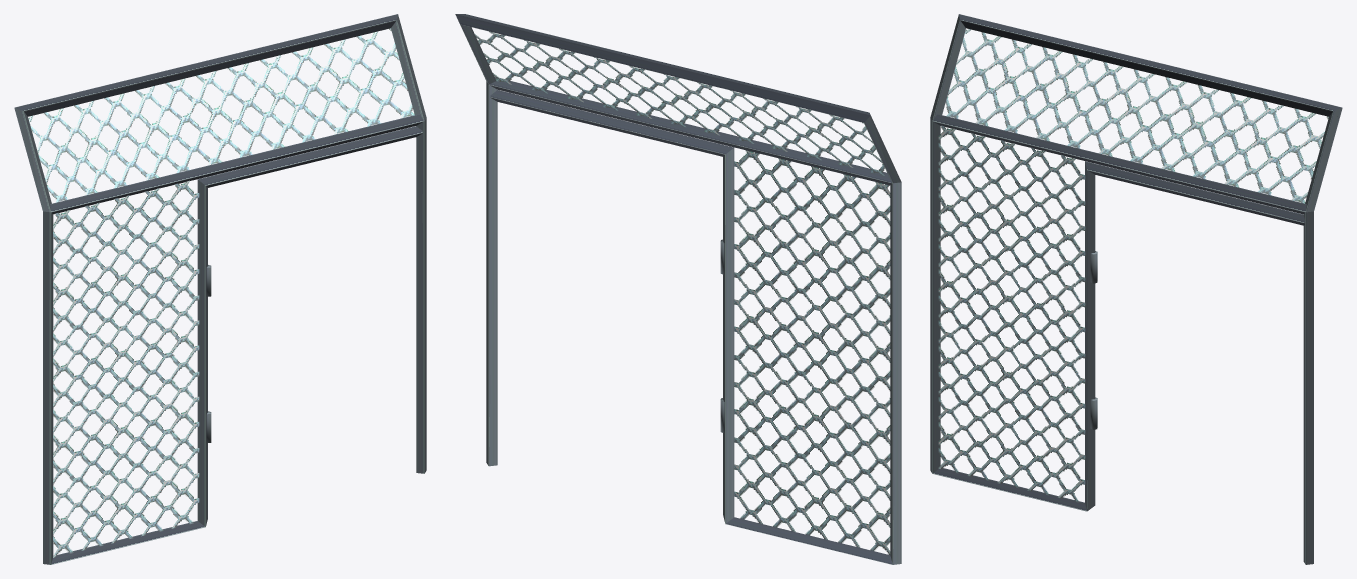
The model's file is a_SEwirefence01_a01.glb.
3 views of the same model, side by side, from view 1: azimuth 30°, elevation 25°; view 2: azimuth 150°, elevation 25°; view 3: azimuth 330°, elevation 25° (orthographic). The views are drawn at different scales.
Parts seen in each view (by area): view 1: a_SEwirefence01_a01; view 2: a_SEwirefence01_a01; view 3: a_SEwirefence01_a01.
Boxes of the visible parts, x1=… form: a_SEwirefence01_a01: x1=14, y1=14, x2=426, y2=564; a_SEwirefence01_a01: x1=455, y1=14, x2=901, y2=564; a_SEwirefence01_a01: x1=930, y1=14, x2=1342, y2=564.
Bounding box in the file's own units: 2.06 × 2.23 × 0.3028.
2 materials, 2 textured.
